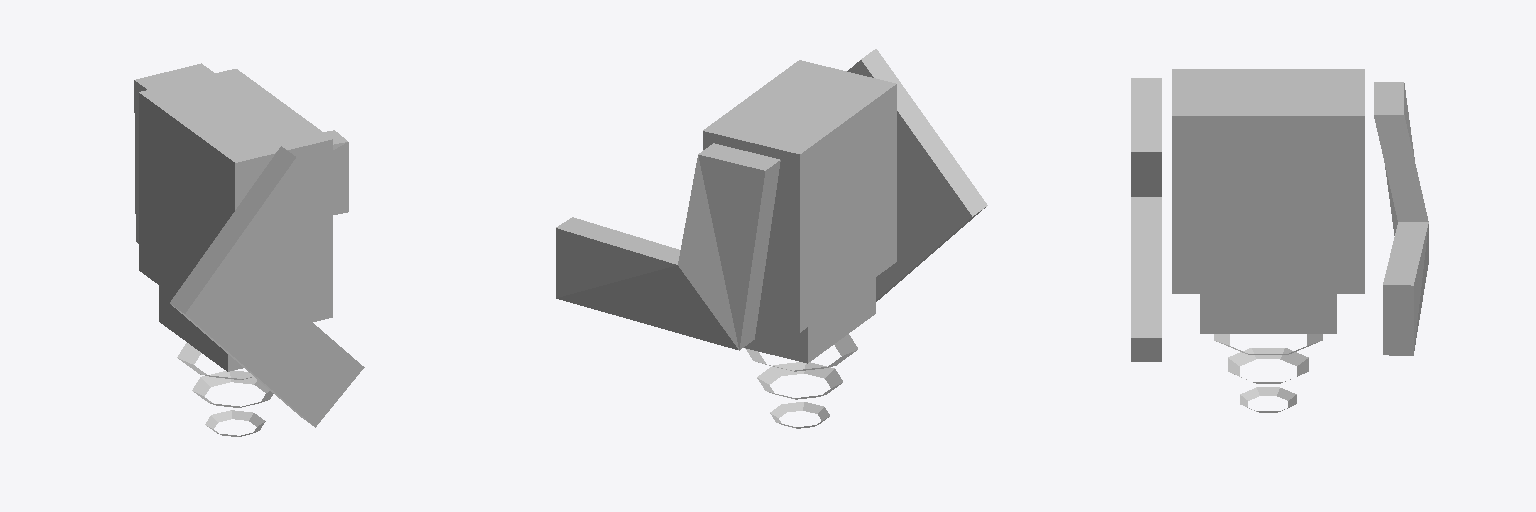
Rendered from robotBody.obj.
3 views of the same model, side by side, from view 1: azimuth 30°, elevation 25°; view 2: azimuth 150°, elevation 25°; view 3: azimuth 270°, elevation 25° (orthographic).
Visible parts, largest first — view 1: Cube.001_Cube.003; view 2: Cube.001_Cube.003; view 3: Cube.001_Cube.003.
Part boxes in pixels (bbox=[...]): Cube.001_Cube.003: bbox=[134, 63, 364, 436]; Cube.001_Cube.003: bbox=[556, 49, 987, 428]; Cube.001_Cube.003: bbox=[1131, 69, 1428, 412].
Size of the model in its own units: 0.8949 by 0.9491 by 0.7924.